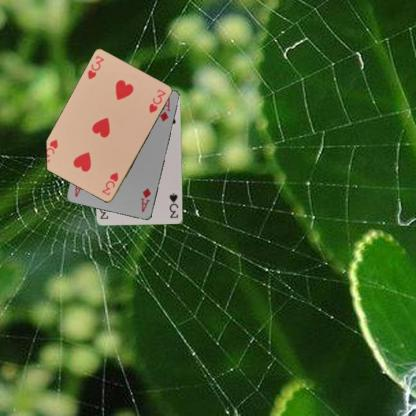3h: (85, 53, 105, 81), (100, 170, 120, 197)
3s: (167, 191, 180, 220)
Ad: (138, 185, 153, 214)
